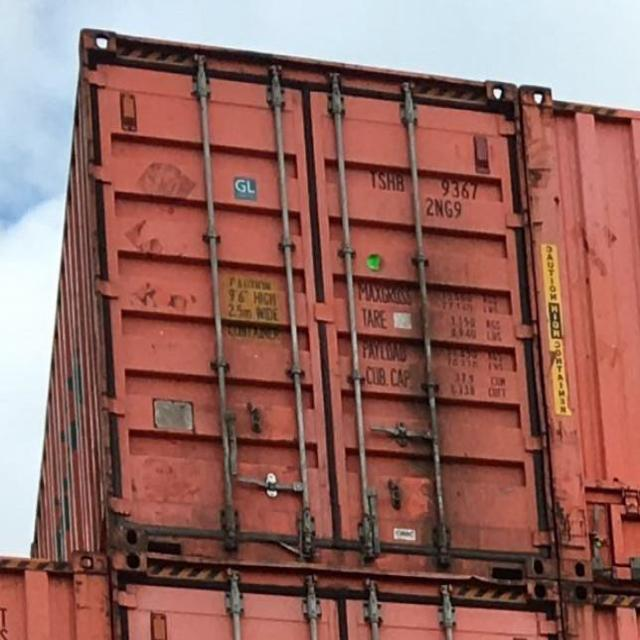ISO: (420, 193, 473, 221)
container_number: (366, 167, 489, 199)
